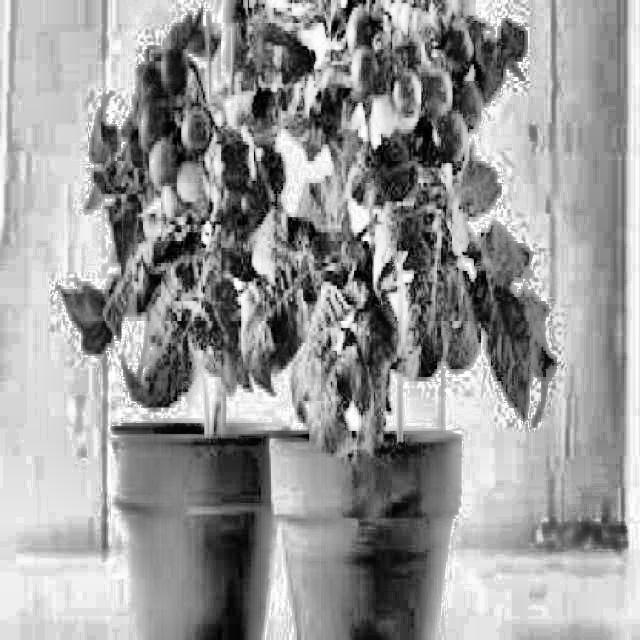plants: (264, 0, 562, 637), (55, 7, 288, 636)
